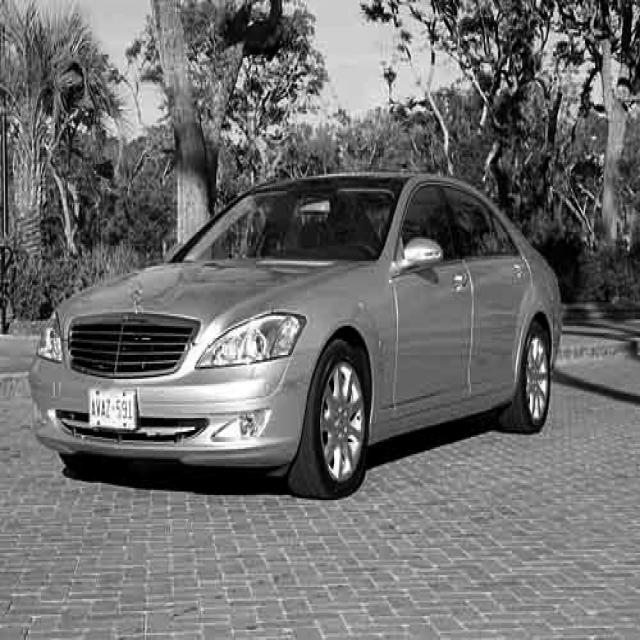car: (28, 169, 563, 500)
plat_license: (87, 389, 138, 432)
